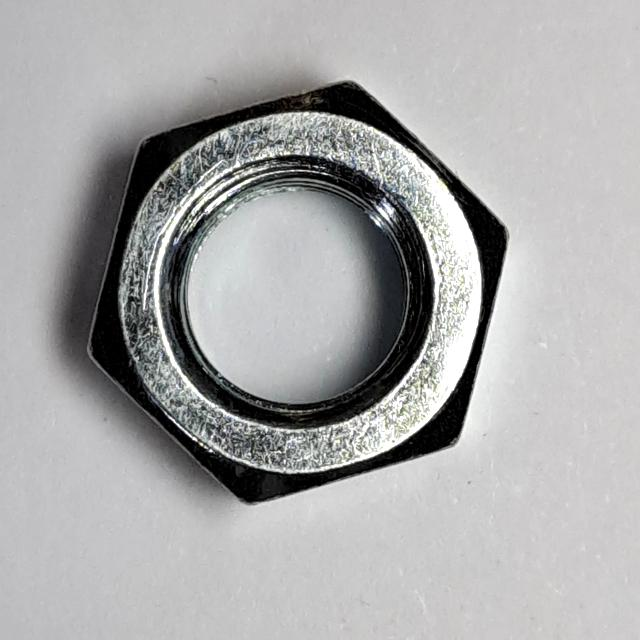Excellent: (76, 72, 530, 517)
